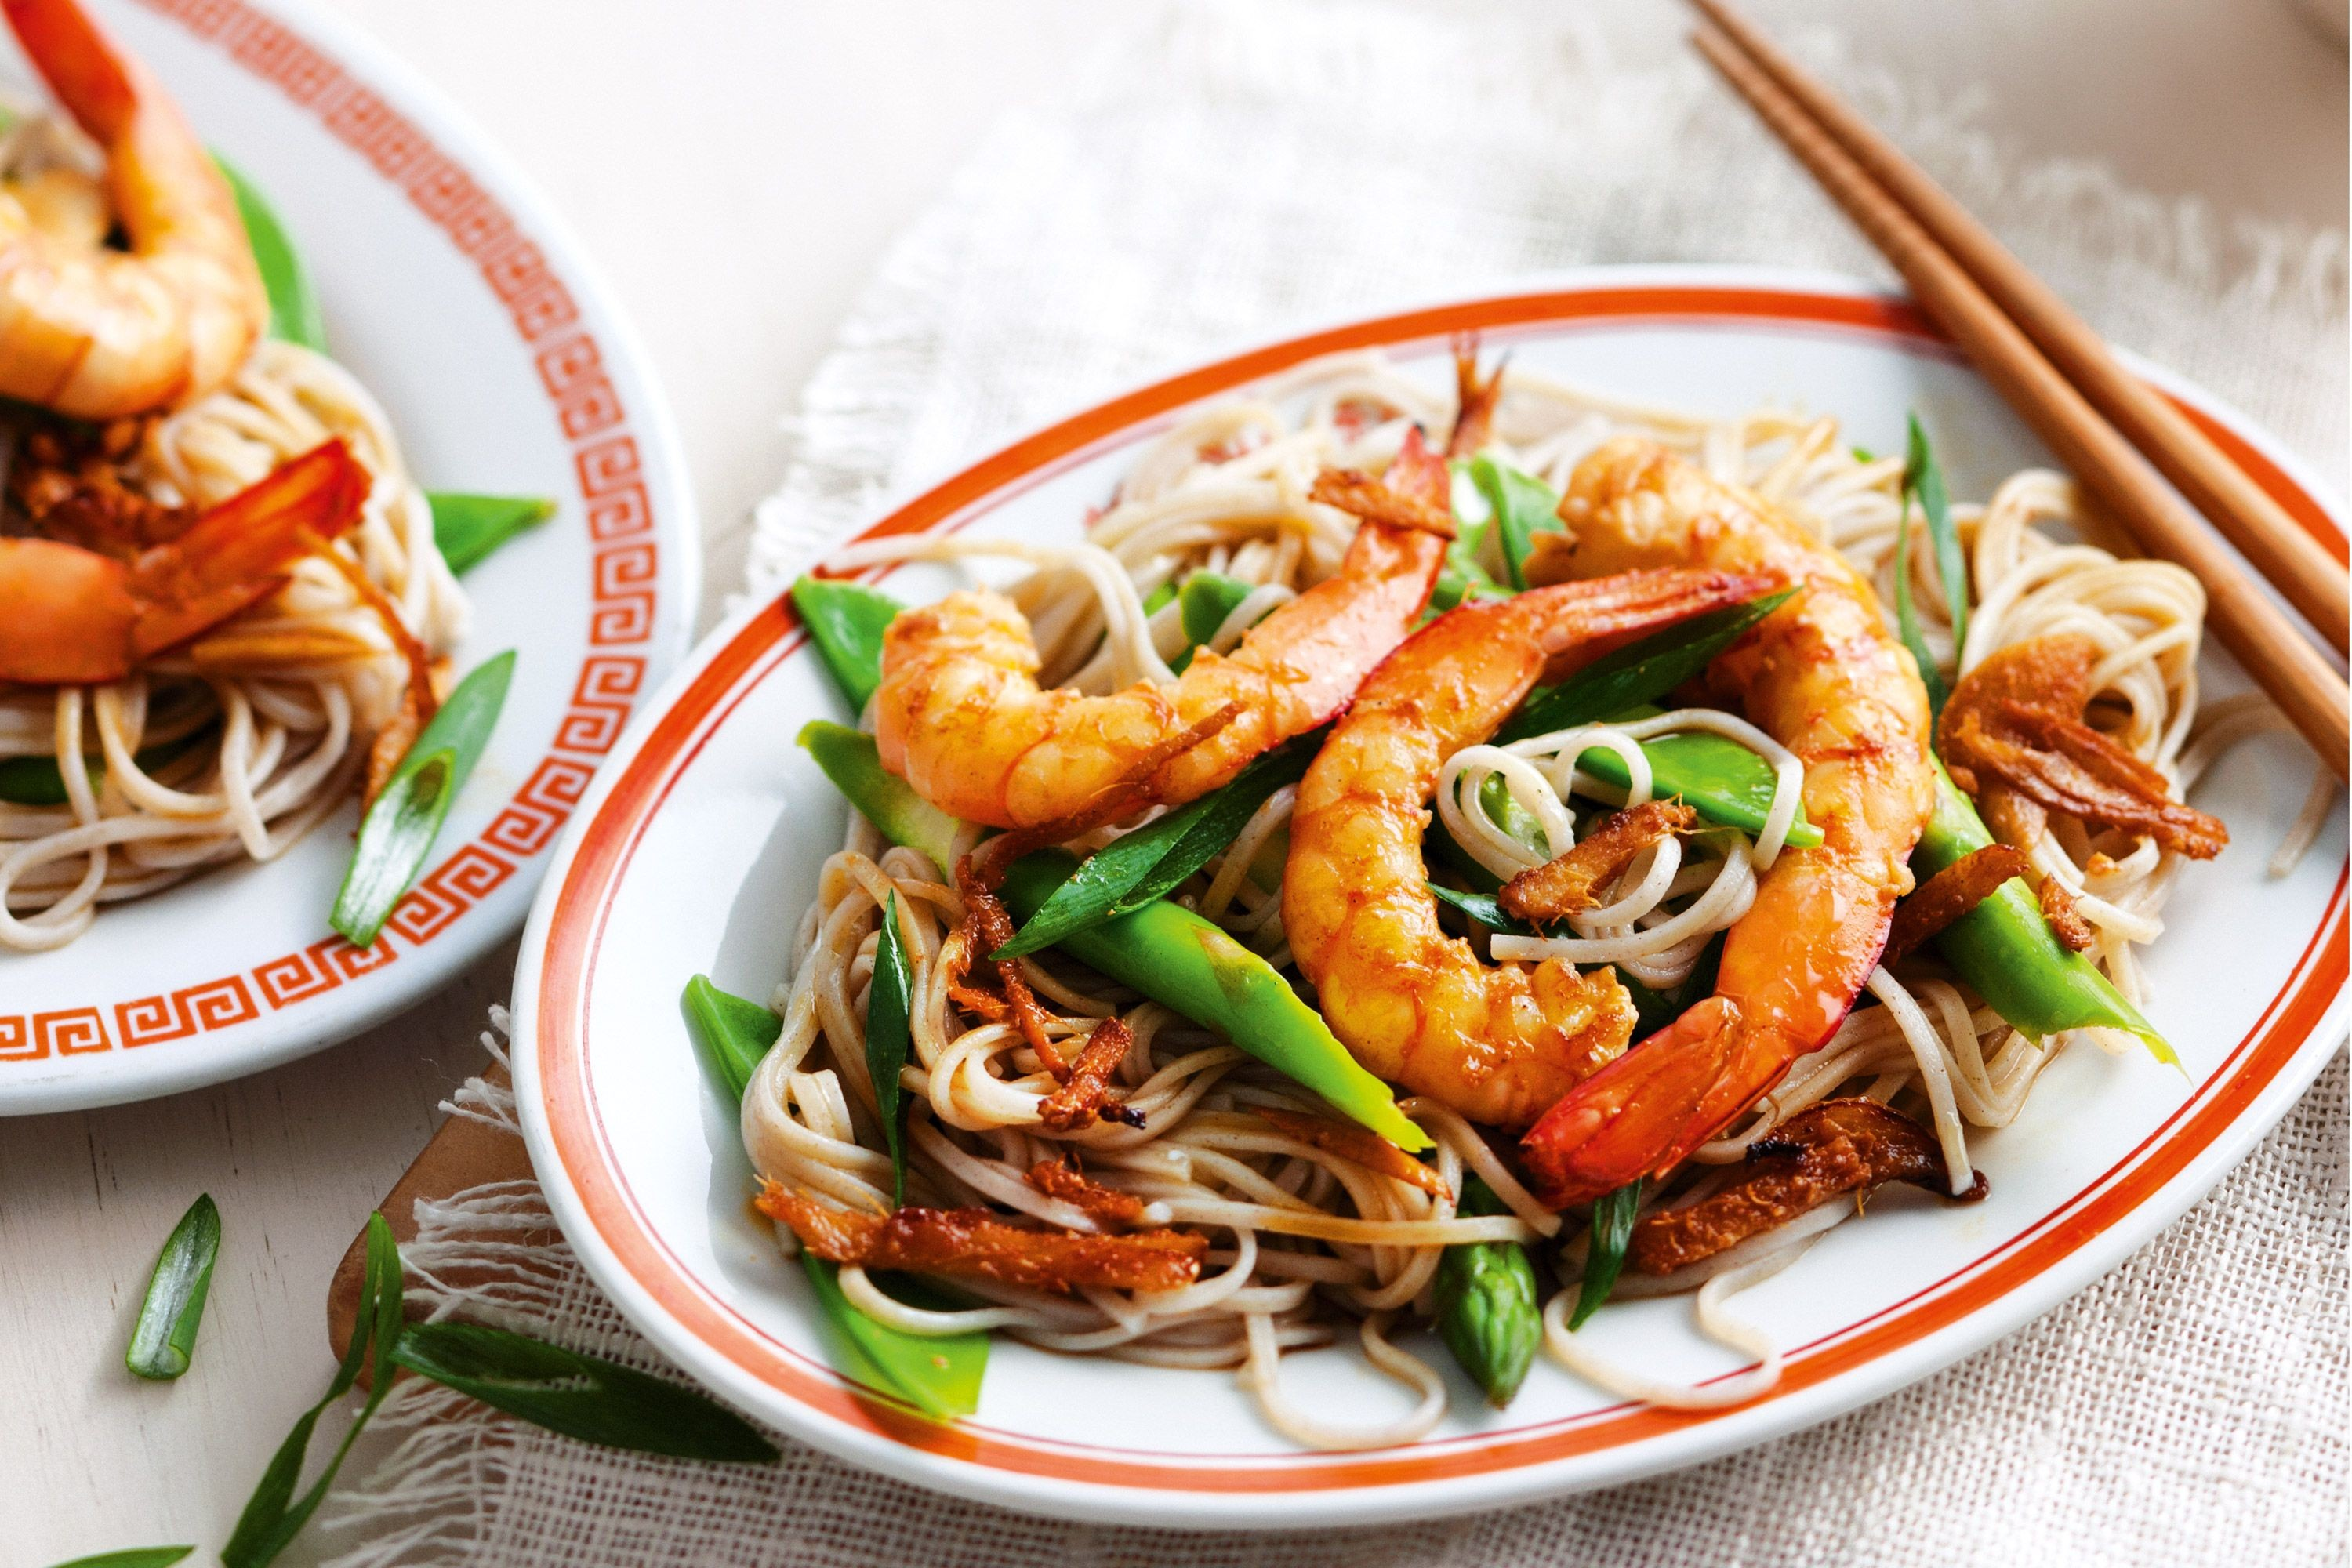Soba: (735, 385, 2216, 1360), (5, 366, 520, 973)
